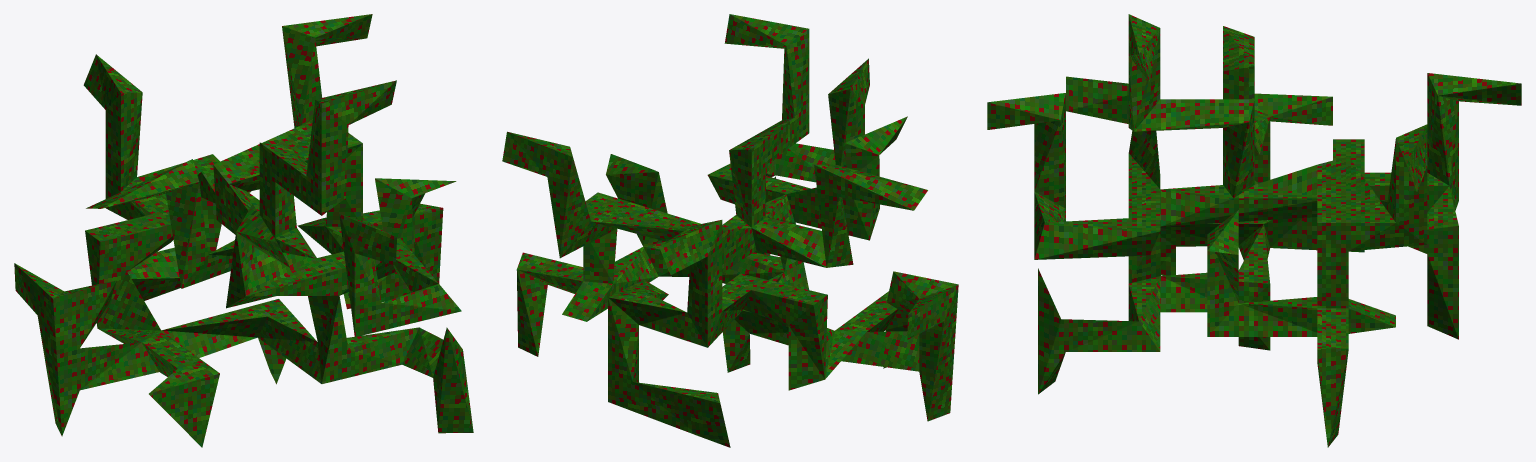
The model's file is thorns.obj.
3 views of the same model, side by side, from view 1: azimuth 30°, elevation 25°; view 2: azimuth 150°, elevation 25°; view 3: azimuth 270°, elevation 25° (orthographic). The views are drawn at different scales.
Visible parts, largest first — view 1: Plane; view 2: Plane; view 3: Plane.
Boxes of the visible parts, x1,y1,x2,y2 form: Plane: [14, 14, 473, 447]; Plane: [502, 14, 958, 447]; Plane: [987, 14, 1521, 447].
Size of the model in its own units: 3.23 by 2.32 by 3.43.
